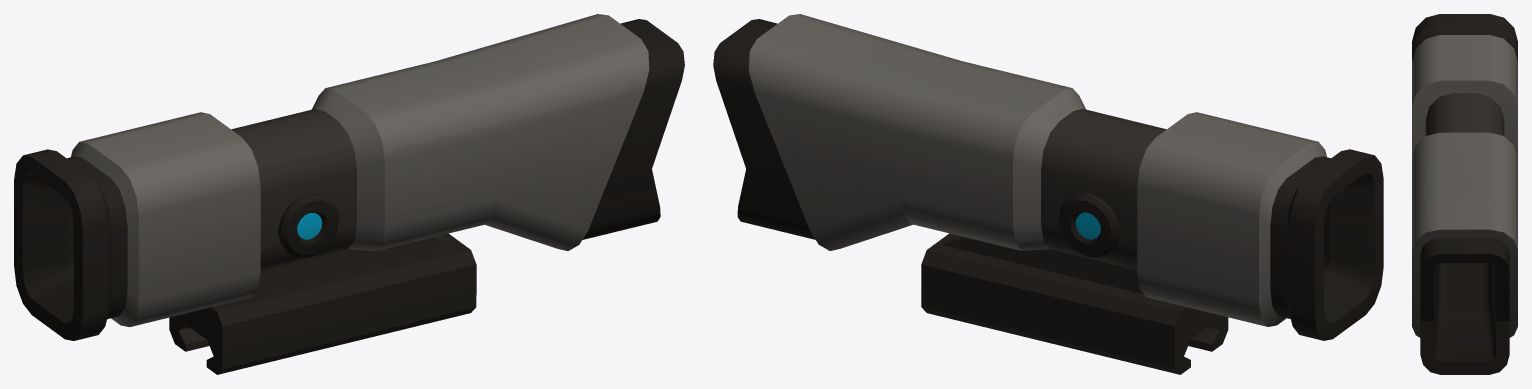
Rendered from Sight_07.fbx.
3 renders of one model, left to right at view 1: azimuth 30°, elevation 25°; view 2: azimuth 150°, elevation 25°; view 3: azimuth 270°, elevation 25°, orthographic. The views are drawn at different scales.
Parts seen in each view (by area): view 1: Sight_07; view 2: Sight_07; view 3: Sight_07.
Boxes of the visible parts, box(x1,y1,x2,y2) form: Sight_07: box(14, 14, 684, 374); Sight_07: box(713, 14, 1383, 374); Sight_07: box(1412, 14, 1517, 374).
Bounding box in the file's own units: 26.06 × 9.23 × 5.06.
